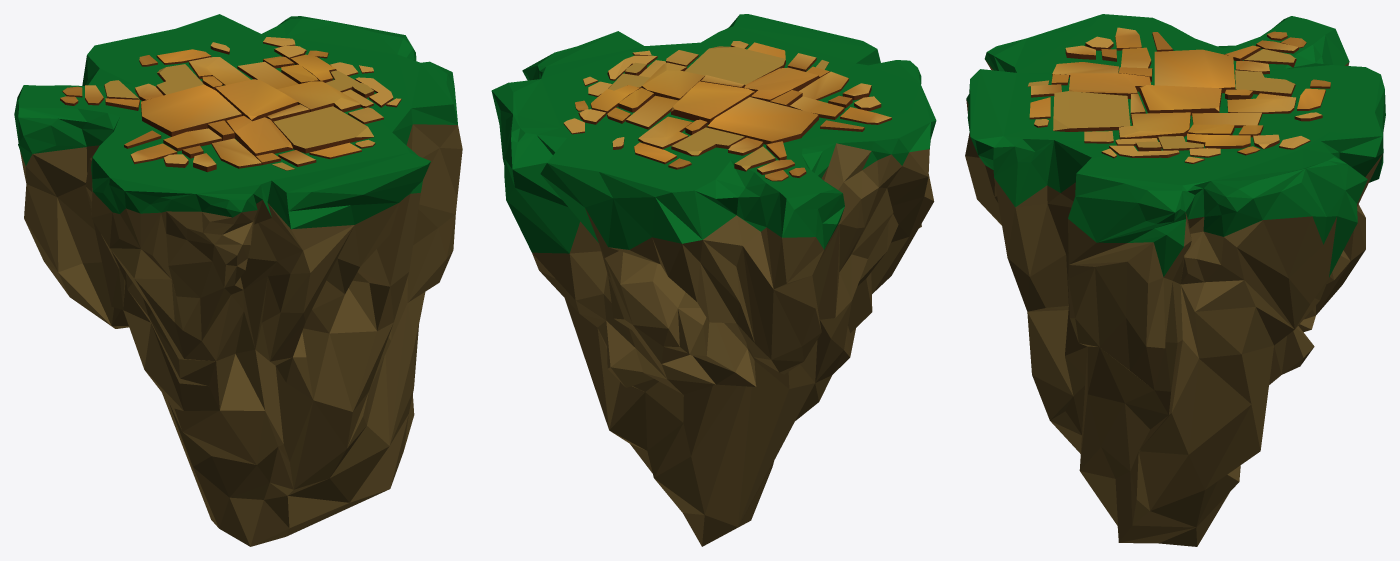
The model's file is ENV_Adventure_Island_01.fbx.
The picture shows the model from 3 angles, left to right: view 1: azimuth 30°, elevation 25°; view 2: azimuth 150°, elevation 25°; view 3: azimuth 270°, elevation 25°; orthographic projection.
Visible parts, largest first — view 1: ENV_Adventure_Island_01; view 2: ENV_Adventure_Island_01; view 3: ENV_Adventure_Island_01.
Boxes of the visible parts, x1,y1,x2,y2 form: ENV_Adventure_Island_01: [14, 14, 462, 546]; ENV_Adventure_Island_01: [491, 14, 936, 546]; ENV_Adventure_Island_01: [965, 14, 1385, 546].
Bounding box in the file's own units: 2694 × 2988 × 2535.
